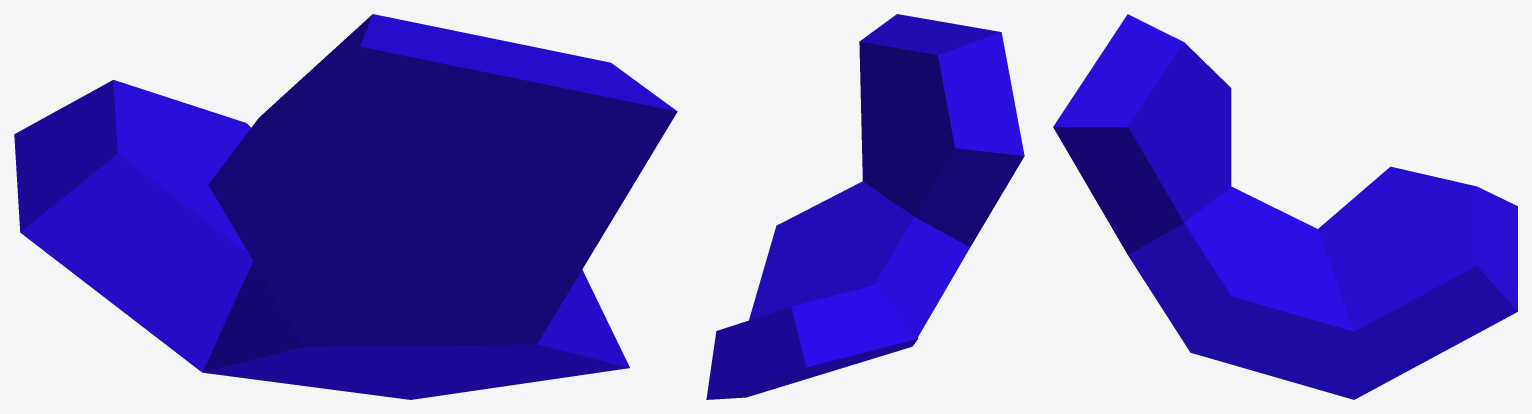
Rendered from piece8.glb.
3 views of the same model, side by side, from view 1: azimuth 30°, elevation 25°; view 2: azimuth 150°, elevation 25°; view 3: azimuth 270°, elevation 25° (orthographic). The views are drawn at different scales.
Visible parts, largest first — view 1: piece_A_8; view 2: piece_A_8; view 3: piece_A_8.
Boxes of the visible parts, bbox=[...] form: piece_A_8: bbox=[14, 14, 677, 399]; piece_A_8: bbox=[706, 14, 1024, 399]; piece_A_8: bbox=[1053, 14, 1517, 399].
Size of the model in its own units: 2.09 by 2.66 by 3.54.
